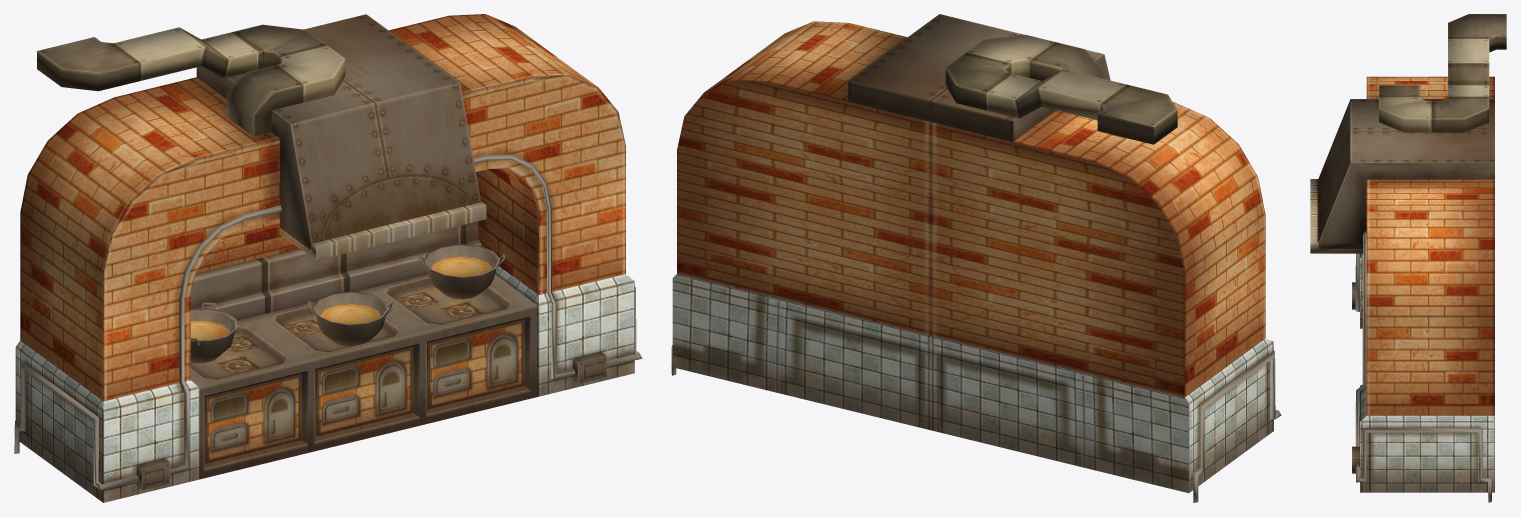
Rendered from a_SWIoven01.glb.
3 views of the same model, side by side, from view 1: azimuth 30°, elevation 25°; view 2: azimuth 150°, elevation 25°; view 3: azimuth 270°, elevation 25° (orthographic). The views are drawn at different scales.
Visible parts, largest first — view 1: a_SWIoven01; view 2: a_SWIoven01; view 3: a_SWIoven01.
Boxes of the visible parts, x1,y1,x2,y2 form: a_SWIoven01: [14, 14, 642, 502]; a_SWIoven01: [671, 14, 1281, 502]; a_SWIoven01: [1310, 14, 1506, 502].
Size of the model in its own units: 6.23 by 4.24 by 2.53.
2 materials, 2 textured.
